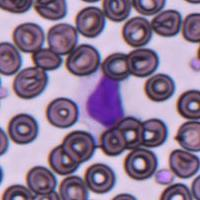L: (84, 74, 124, 129)
